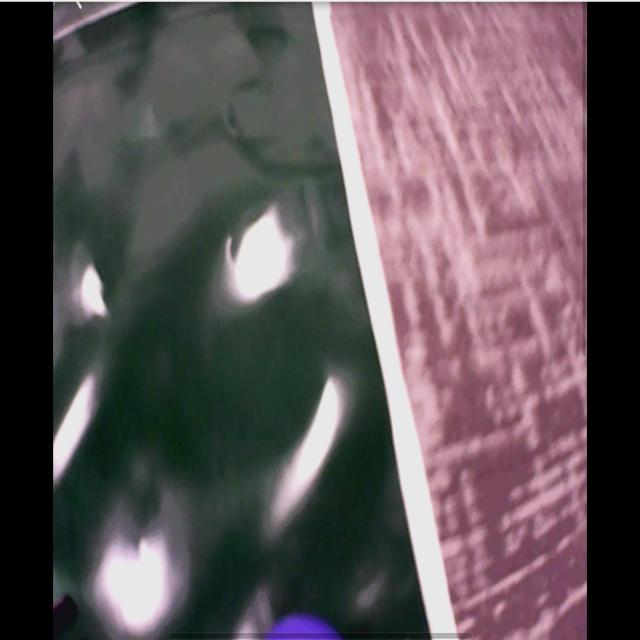ball: (264, 610, 339, 640)
